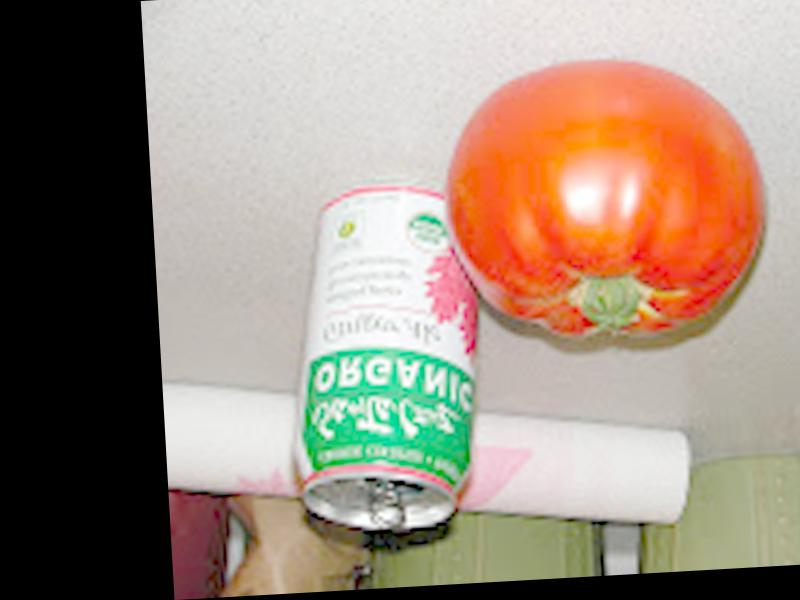Tomato: (441, 54, 768, 343)
